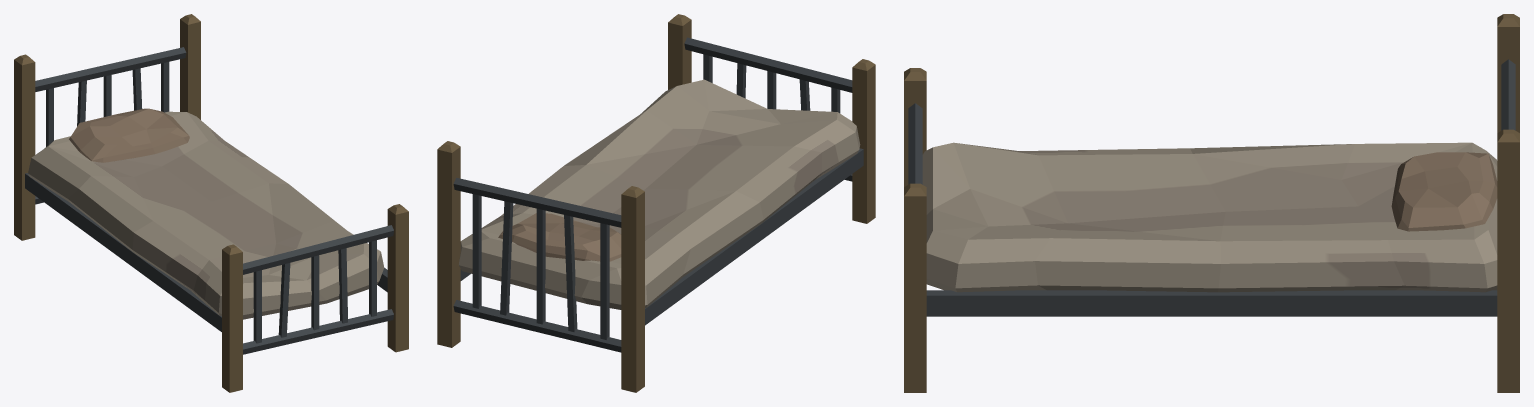
The model's file is SM_Prop_Bed_Small_01.fbx.
The picture shows the model from 3 angles, left to right: view 1: azimuth 30°, elevation 25°; view 2: azimuth 150°, elevation 25°; view 3: azimuth 270°, elevation 25°; orthographic projection. The views are drawn at different scales.
Parts seen in each view (by area): view 1: SM_Prop_Bed_Small_01; view 2: SM_Prop_Bed_Small_01; view 3: SM_Prop_Bed_Small_01.
Part boxes in pixels (x1,y1,x2,y2): SM_Prop_Bed_Small_01: [14, 14, 408, 392]; SM_Prop_Bed_Small_01: [437, 14, 875, 392]; SM_Prop_Bed_Small_01: [904, 14, 1519, 392].
Bounding box in the file's own units: 94.46 × 90.6 × 197.
